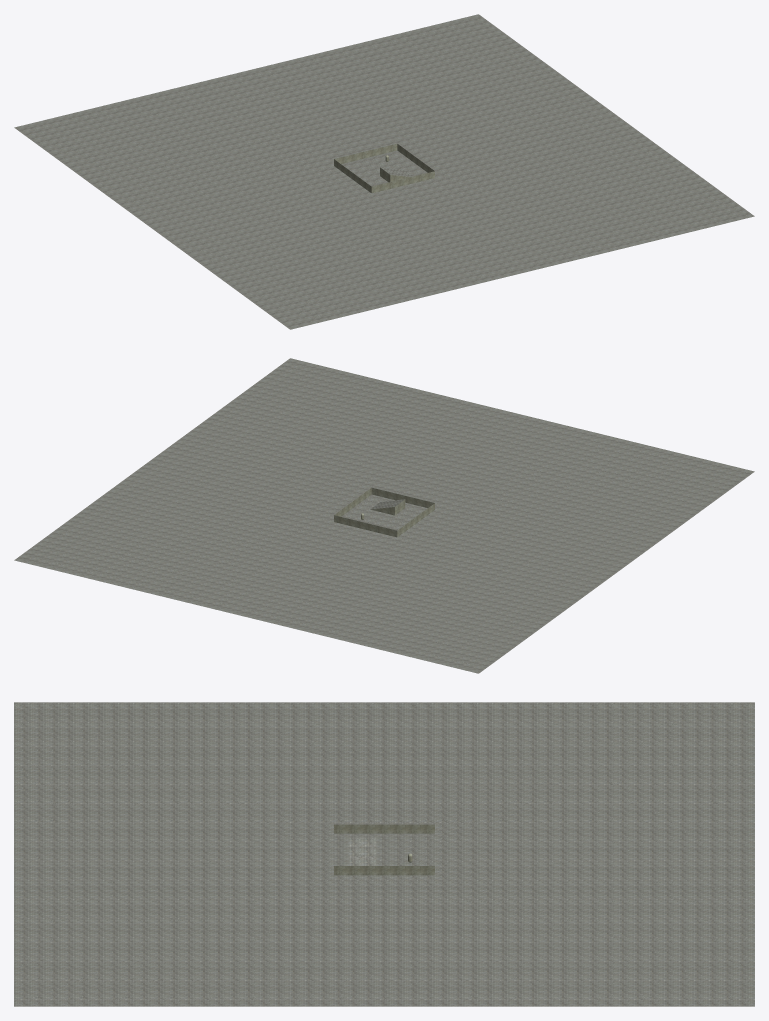
Rendered from map.obj.
The picture shows the model from 3 angles, top to bottom: view 1: azimuth 30°, elevation 25°; view 2: azimuth 150°, elevation 25°; view 3: azimuth 270°, elevation 25°; orthographic projection. The views are drawn at different scales.
Parts seen in each view (by area): view 1: Plane; view 2: Plane; view 3: Plane.
Boxes of the visible parts, x1,y1,x2,y2 form: Plane: [14, 14, 754, 329]; Plane: [14, 358, 754, 673]; Plane: [14, 702, 754, 1006].
Size of the model in its own units: 118 by 2.13 by 122.
Materials: 2 (2 with a texture image).
